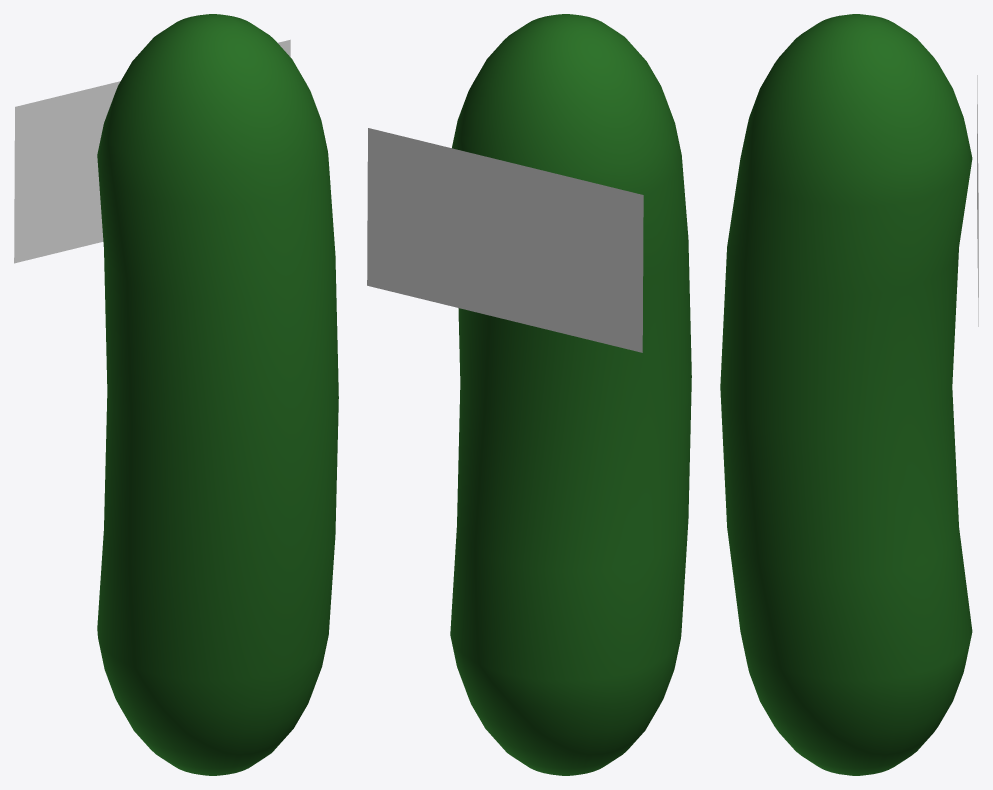
File: pickleRickTemp.fbx
3 views of the same model, side by side, from view 1: azimuth 30°, elevation 25°; view 2: azimuth 150°, elevation 25°; view 3: azimuth 270°, elevation 25° (orthographic).
Parts seen in each view (by area): view 1: PickleRick, Plane; view 2: PickleRick, Plane; view 3: PickleRick.
Boxes of the visible parts, bbox=[...] form: PickleRick: bbox=[97, 14, 338, 775]; Plane: bbox=[14, 39, 290, 263]; PickleRick: bbox=[450, 14, 691, 775]; Plane: bbox=[367, 128, 643, 352]; PickleRick: bbox=[720, 14, 972, 775].
Bounding box in the file's own units: 86.76 × 225 × 70.43.
